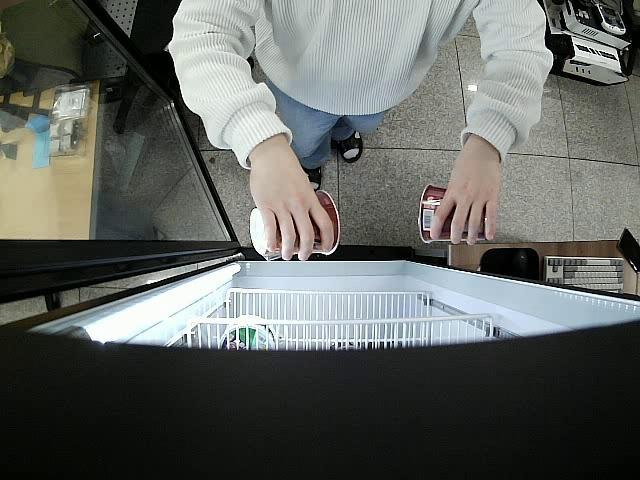06_nuguri_S: (249, 190, 340, 259), (418, 184, 494, 244)
